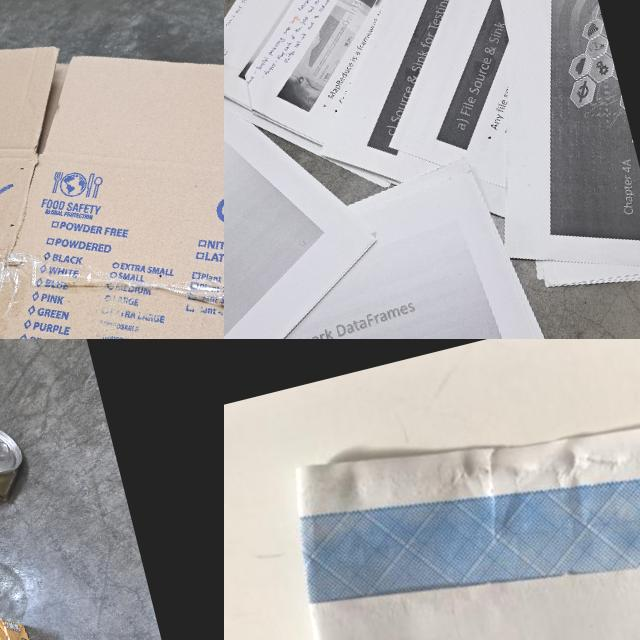aba de lata: (0, 435, 11, 461)
lata: (0, 413, 35, 539)
papel: (224, 0, 640, 339), (259, 339, 640, 640)
papelão: (0, 0, 224, 339)
